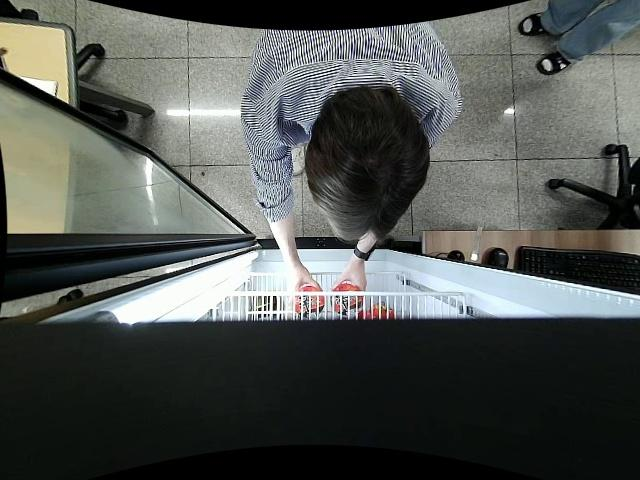00_hand: (285, 266, 322, 311), (334, 264, 367, 294)
02_shinRamen_S: (330, 281, 363, 315), (293, 284, 325, 319)
